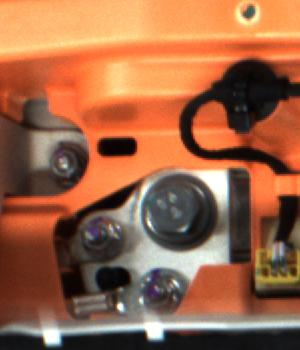nut_b: (140, 173, 219, 252)
